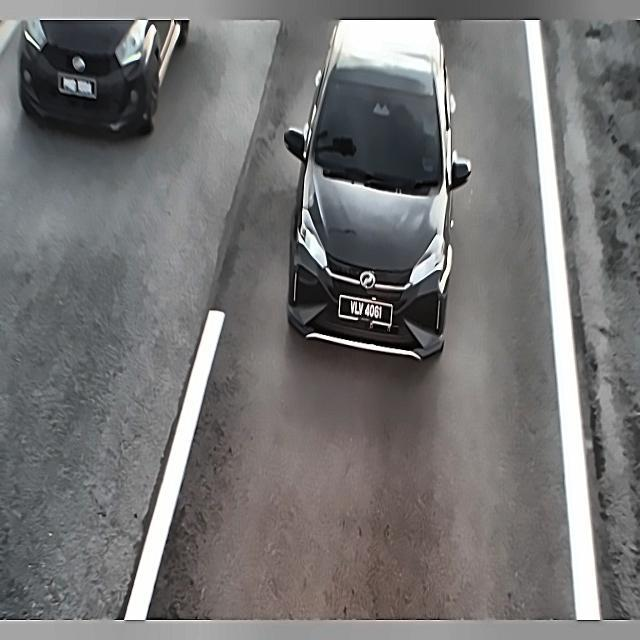car: (333, 292, 396, 330), (52, 74, 101, 107)
